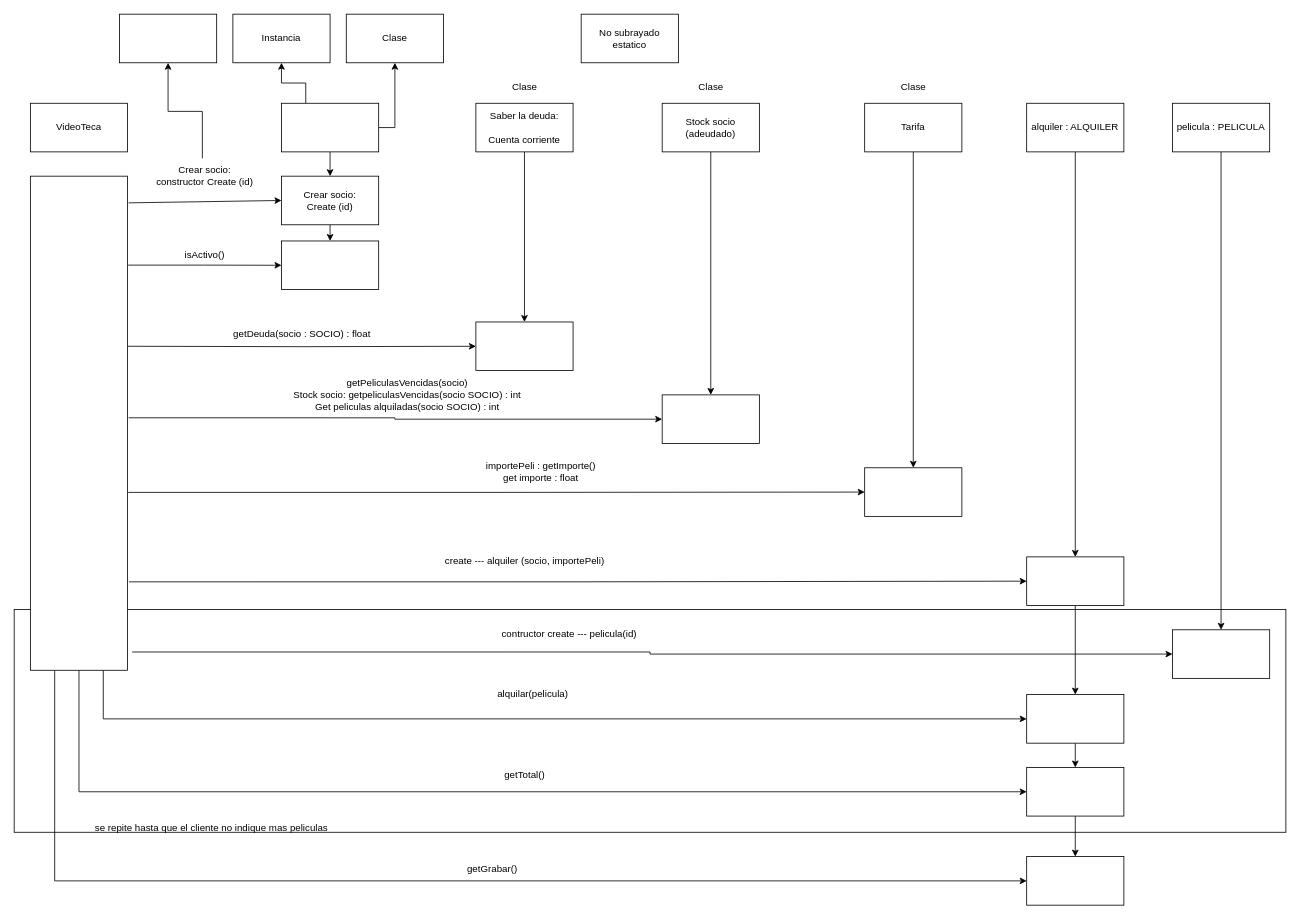
Image size: 1300x919. Some labels were removed from this diagram. Here are the shapes that lost their labels. From the top down, the box of each, then its label:
(119, 13, 217, 63): Estereotipo constructor
(281, 102, 379, 152): socio: SOCIO Sub instacia
(281, 240, 379, 290): Preguntar si esta activo
(30, 175, 128, 670): Caso de exito
